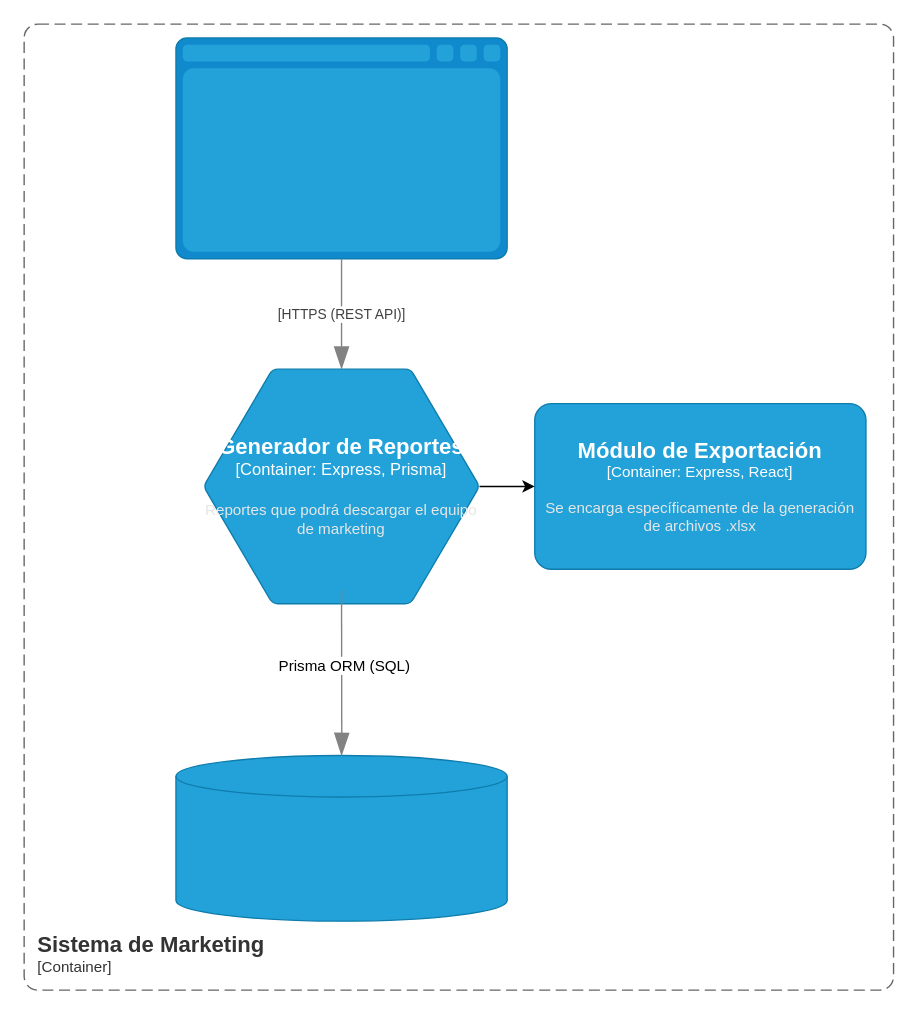
The diagram is 918 pixels wide and 1014 high, and some of its shapes have lost their labels. Here are the shapes that lost their labels. From the top down, the centre of each, then its label:
(x=341, y=148): WebApp [Container: JavaScript, React.] Aplicación Web
(x=341, y=837): Base de Datos [Container: MySQL] Base de datos donde se guardan todos los datos
